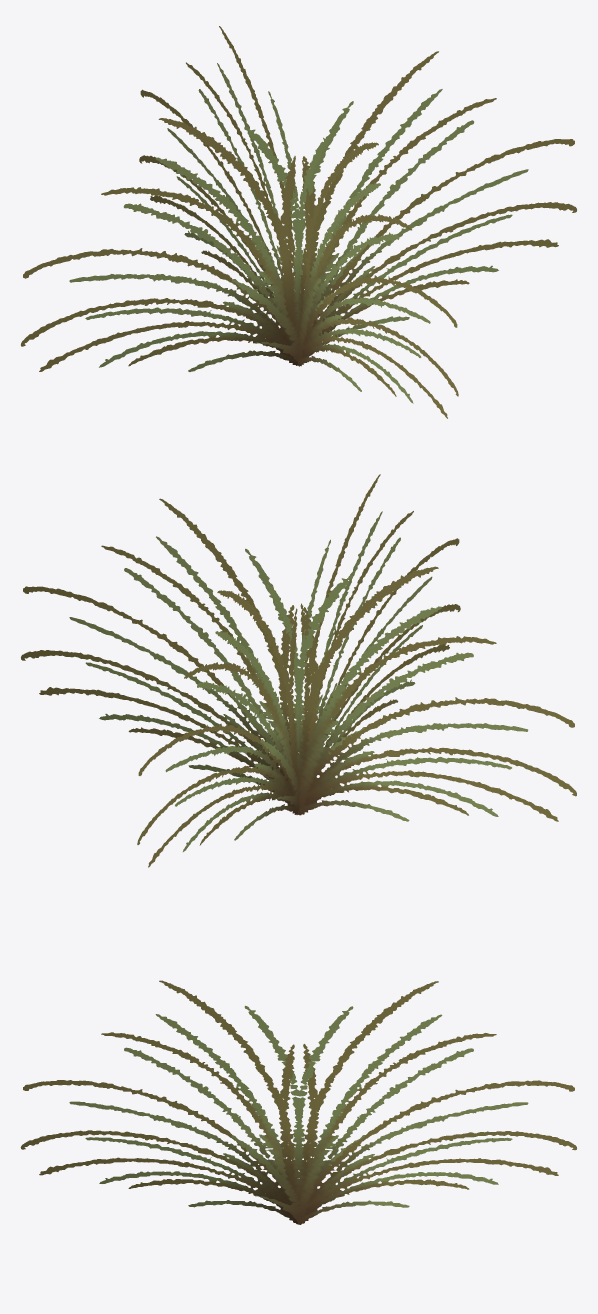
Rendered from HP3_weed042.fbx.
3 renders of one model, top to bottom at view 1: azimuth 30°, elevation 25°; view 2: azimuth 150°, elevation 25°; view 3: azimuth 270°, elevation 25°, orthographic. The views are drawn at different scales.
Parts seen in each view (by area): view 1: HP3_weed042; view 2: HP3_weed042; view 3: HP3_weed042.
Part boxes in pixels (x1,y1,x2,y2): HP3_weed042: (21,26,576,418); HP3_weed042: (21,474,576,867); HP3_weed042: (20,980,576,1224).
Size of the model in its own units: 15.66 by 7.88 by 15.66.
